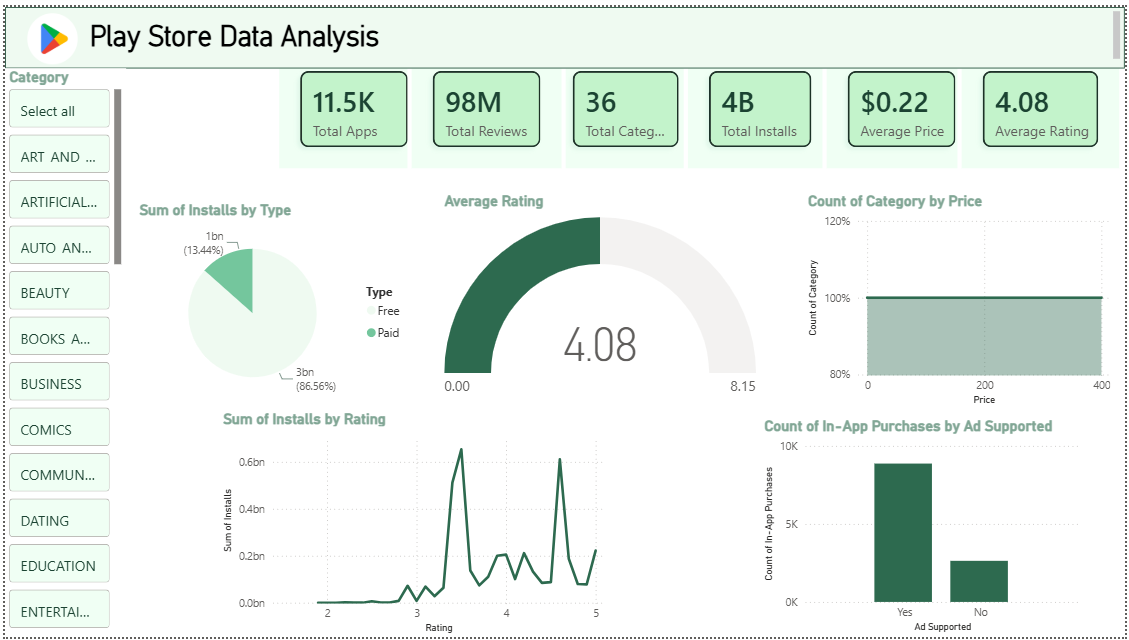

The dashboard page shown, as its layout file describes it:
{"tool":"powerbi","page":{"name":"Page 1","canvas":[1280,720],"ordinal":0},"visuals":[{"type":"cardVisual","fields":{"Data":["google_playstore_cleaned.Total Apps"]},"box":[308.1,44.6,181.1,145.9],"z":0},{"type":"cardVisual","fields":{"Data":["google_playstore_cleaned.Total Categories"]},"box":[620.3,44.6,179.7,145.9],"z":1},{"type":"cardVisual","fields":{"Data":["google_playstore_cleaned.Total Installs"]},"box":[775.7,44.6,175.7,145.9],"z":2},{"type":"cardVisual","fields":{"Data":["google_playstore_cleaned.Total Reviews"]},"box":[459.5,44.6,181.1,145.9],"z":3},{"type":"cardVisual","fields":{"Data":["google_playstore_cleaned.Average Price"]},"box":[933.8,44.6,181.1,145.9],"z":4},{"type":"cardVisual","fields":{"Data":["google_playstore_cleaned.Average Rating"]},"box":[1089.2,44.6,190.5,145.9],"z":5},{"type":"shape","box":[0,0,1279.7,70.3],"z":6},{"type":"textbox","box":[0,0,1279.7,70.3],"z":7},{"type":"pieChart","fields":{"Category":["google_playstore_cleaned.Type"],"Y":["Sum(google_playstore_cleaned.Installs)"]},"box":[148.6,221.6,318.9,237.8],"z":8},{"type":"lineClusteredColumnComboChart","fields":{"Category":["google_playstore_cleaned.Ad Supported"],"Y":["CountNonNull(google_playstore_cleaned.In-App Purchases)"]},"box":[863.5,468.9,370.3,251.4],"z":9},{"type":"advancedSlicerVisual","fields":{"Values":["google_playstore_cleaned.Category"]},"box":[0,70,138.6,650],"z":10},{"type":"lineChart","fields":{"Y":["Sum(google_playstore_cleaned.Installs)"],"Category":["google_playstore_cleaned.Rating"]},"box":[244.6,459.5,445.9,260.8],"z":11},{"type":"gauge","fields":{"Y":["google_playstore_cleaned.Average Rating"]},"box":[497.3,210.8,366.2,248.6],"z":12},{"type":"hundredPercentStackedAreaChart","fields":{"Category":["google_playstore_cleaned.Price"],"Y":["CountNonNull(google_playstore_cleaned.Category)"]},"box":[912.2,210.8,355.4,248.6],"z":13},{"type":"image","box":[14.9,6.8,79.7,58.1],"z":14}]}

Visuals, with their boxes in screenshot pixels (x1, y1, x2, y2), scaled from the page's 1280x720 canvas onto the 1129x640 screenshot:
cardVisual - google_playstore_cleaned.Total Apps: 272/40/431/169
cardVisual - google_playstore_cleaned.Total Categories: 547/40/706/169
cardVisual - google_playstore_cleaned.Total Installs: 684/40/839/169
cardVisual - google_playstore_cleaned.Total Reviews: 405/40/565/169
cardVisual - google_playstore_cleaned.Average Price: 824/40/983/169
cardVisual - google_playstore_cleaned.Average Rating: 961/40/1128/169
shape: 0/0/1128/62
textbox: 0/0/1128/62
pieChart - google_playstore_cleaned.Type x Sum(google_playstore_cleaned.Installs): 131/197/412/408
lineClusteredColumnComboChart - google_playstore_cleaned.Ad Supported x CountNonNull(google_playstore_cleaned.In-App Purchases): 762/417/1088/639
advancedSlicerVisual - google_playstore_cleaned.Category: 0/62/122/639
lineChart - Sum(google_playstore_cleaned.Installs) x google_playstore_cleaned.Rating: 216/408/609/639
gauge - google_playstore_cleaned.Average Rating: 439/187/762/408
hundredPercentStackedAreaChart - google_playstore_cleaned.Price x CountNonNull(google_playstore_cleaned.Category): 805/187/1118/408
image: 13/6/83/58
